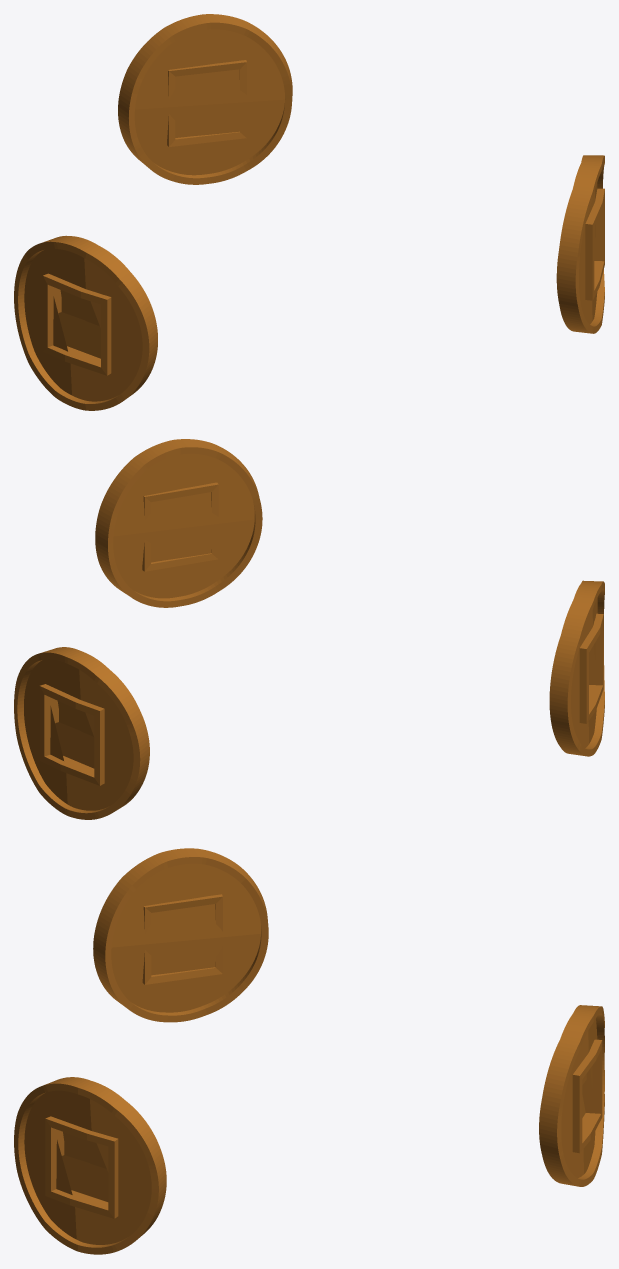
Rendered from Metal_power.fbx.
The picture shows the model from 3 angles, top to bottom: view 1: azimuth 30°, elevation 25°; view 2: azimuth 150°, elevation 25°; view 3: azimuth 270°, elevation 25°; orthographic projection. The views are drawn at different scales.
Visible parts, largest first — view 1: 柱体; view 2: 柱体; view 3: 柱体.
Part boxes in pixels (box(x1,y1,x2,y2)): 柱体: box(14, 14, 604, 410); 柱体: box(14, 439, 604, 819); 柱体: box(14, 848, 604, 1254).
Bounding box in the file's own units: 995 × 287 × 938.
